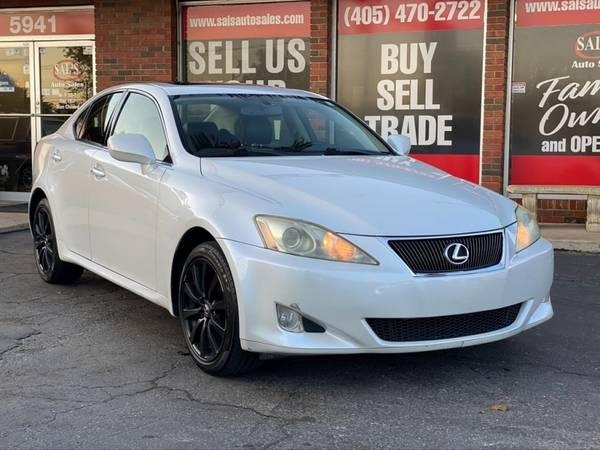Front_Bumper: (217, 222, 553, 360)
Front_Fender: (154, 154, 296, 313)
Front_Right_Door: (90, 150, 173, 304)
Front_Right_Window: (104, 94, 172, 170)
Front_Windshield: (168, 95, 396, 157)
Grille: (384, 229, 505, 278)
Hood: (199, 157, 516, 238)
Left_Headlight: (514, 203, 540, 249)
Rear_Fender: (27, 130, 68, 195)
Rear_Right_Door: (49, 140, 107, 271)
Rear_Right_Window: (71, 92, 127, 150)
Right_Headlight: (254, 213, 378, 266)
Roof: (52, 85, 324, 168)
Wheel: (173, 244, 238, 371), (31, 203, 59, 280)
